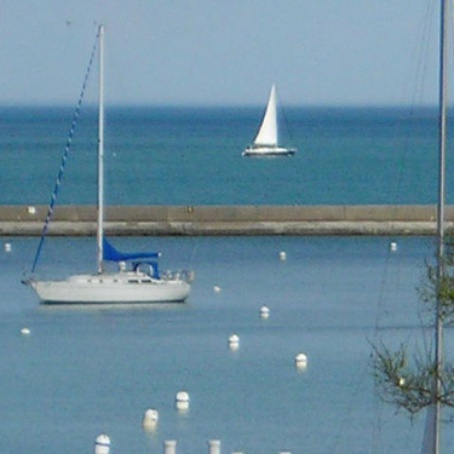boat: (21, 18, 190, 308), (235, 83, 302, 168)
sea: (15, 240, 454, 454), (1, 102, 454, 201)
sky: (1, 1, 454, 101)
